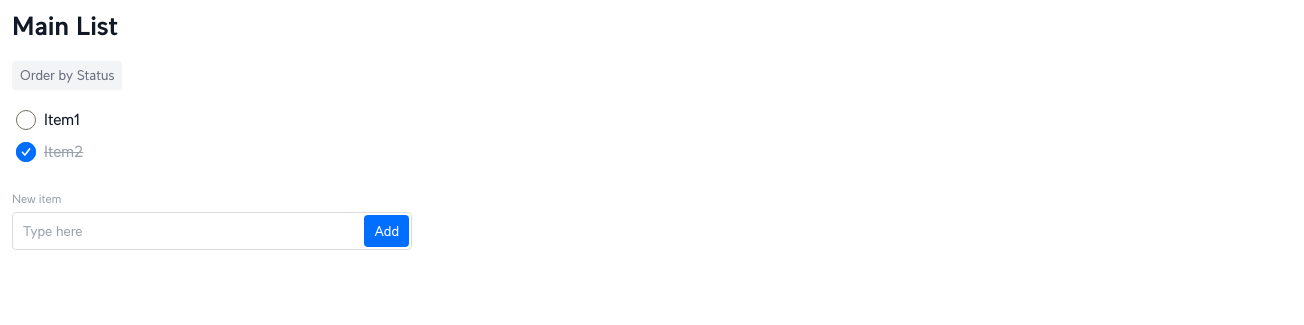
Test: should group items by completion
Expected: the text with test id "toggle-grouping-by-completion" reads "Order by Status", [20, 67, 114, 83]
Click the text with test id "toggle-grouping-by-completion": click(67, 76) [12, 61, 122, 90]
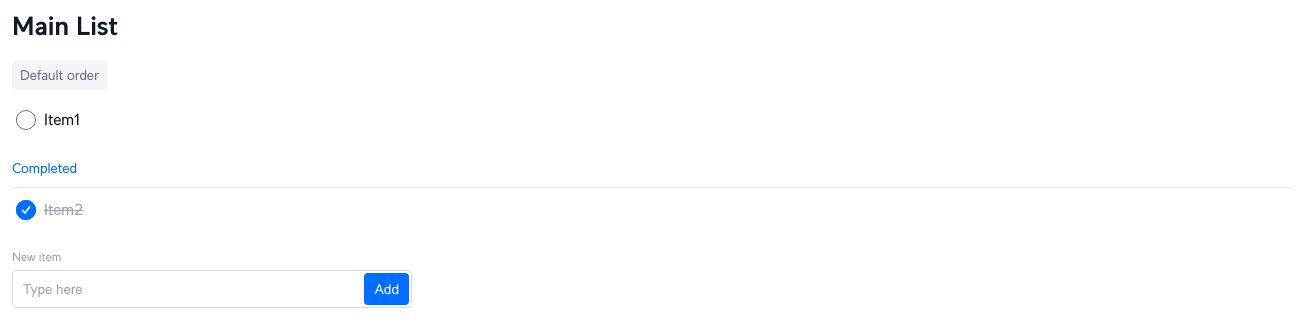
Result: the text with test id "toggle-grouping-by-completion" reads "Default order" at [20, 67, 99, 83]
Result: the element with test id "completed-wrapper" is shown at [12, 158, 1292, 224]
Result: the text "Completed" is shown at [12, 158, 1292, 188]
